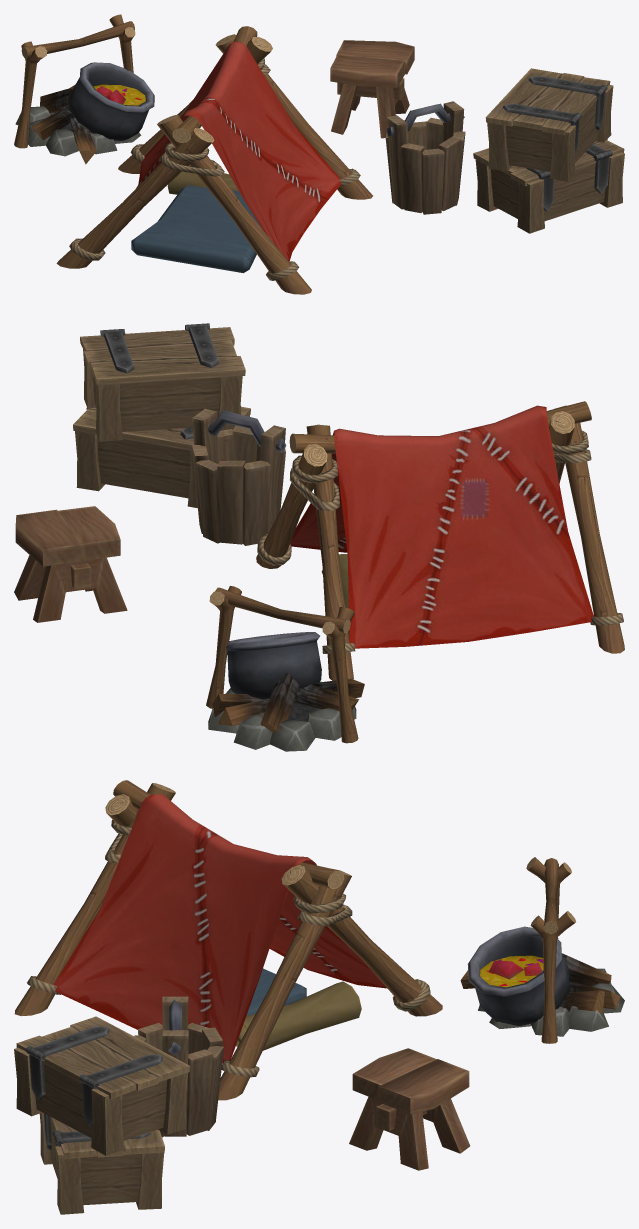
Rendered from acampamento.glb.
3 renders of one model, top to bottom at view 1: azimuth 30°, elevation 25°; view 2: azimuth 150°, elevation 25°; view 3: azimuth 270°, elevation 25°, orthographic. The views are drawn at different scales.
Visible parts, largest first — view 1: Camp2_tent, Camp2_Fierplace1, Chest1B.001, Chest1B, Bucket, Bench2; view 2: Camp2_tent, Camp2_Fierplace1, Chest1B.001, Bucket, Bench2, Chest1B; view 3: Camp2_tent, Chest1B.001, Camp2_Fierplace1, Bench2, Chest1B, Bucket.
Boxes of the visible parts, box(x1,y1,x2,y2) form: Camp2_tent: box(56, 26, 372, 294); Camp2_Fierplace1: box(14, 14, 154, 164); Chest1B.001: box(485, 68, 613, 181); Chest1B: box(473, 139, 624, 233); Bucket: box(385, 101, 465, 214); Bench2: box(330, 40, 414, 138); Camp2_tent: box(256, 401, 624, 680); Camp2_Fierplace1: box(206, 586, 364, 751); Chest1B.001: box(80, 323, 245, 441); Bucket: box(192, 408, 286, 545); Bench2: box(14, 506, 127, 622); Chest1B: box(73, 406, 250, 508); Camp2_tent: box(14, 780, 442, 1100); Chest1B.001: box(14, 1016, 189, 1155); Camp2_Fierplace1: box(460, 857, 624, 1043); Bench2: box(349, 1048, 469, 1170); Chest1B: box(39, 1112, 164, 1214); Bucket: box(134, 996, 223, 1137).
Size of the model in its own units: 3.5 by 1.06 by 3.07.
4 materials, 4 textured.
